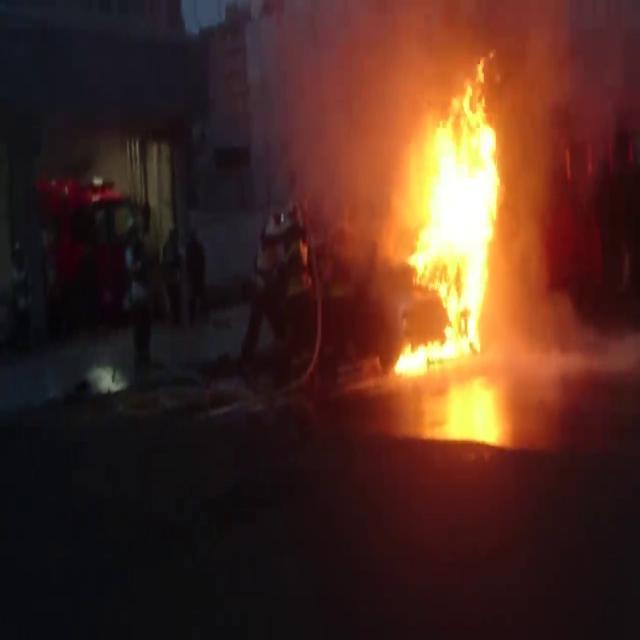Fire: (406, 46, 502, 334), (394, 335, 484, 377)
Smoke: (271, 3, 405, 257), (502, 2, 570, 356), (406, 0, 502, 48)
